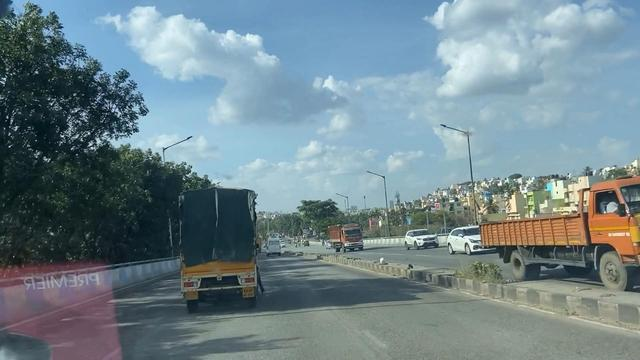HMV: (175, 186, 264, 316)
